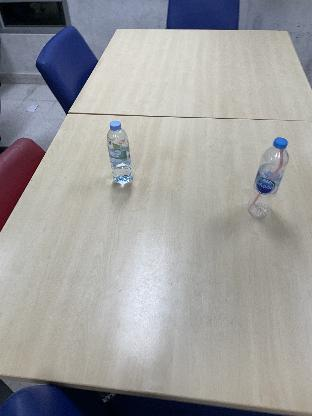Plastic Bottle: (248, 137, 290, 221), (106, 119, 134, 187)
